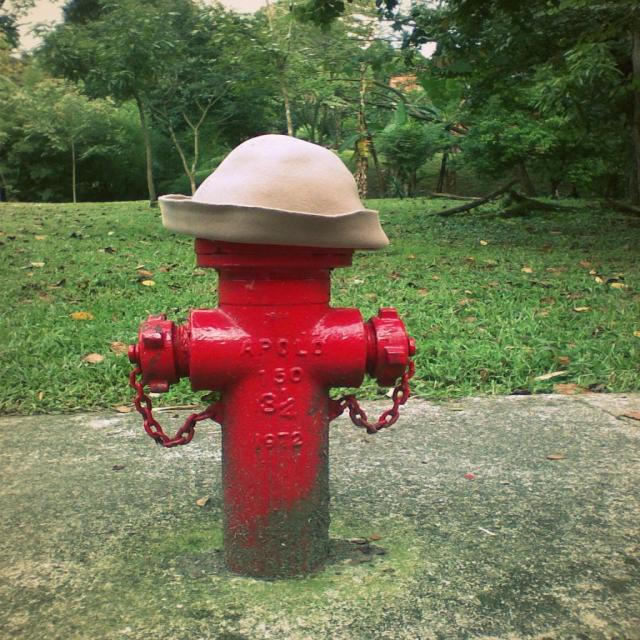fire_hydrant: (127, 237, 415, 581)
